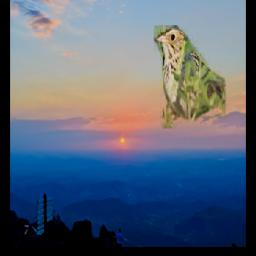Sparrow: (154, 26, 226, 130)
